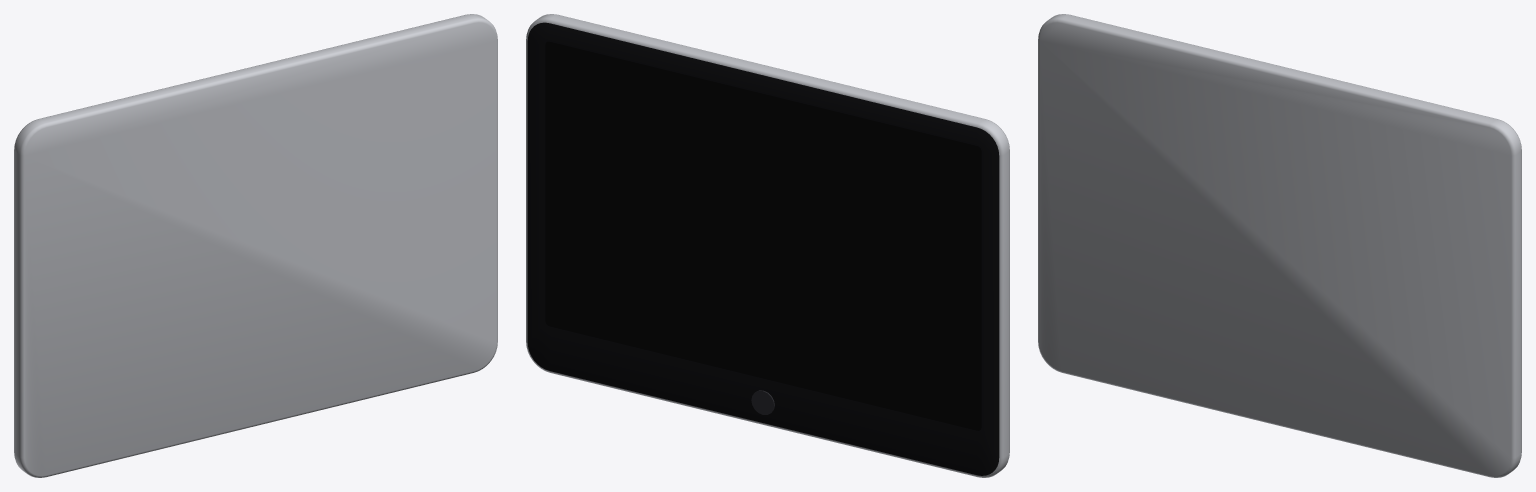
The model's file is KawaTablet.fbx.
The picture shows the model from 3 angles, left to right: view 1: azimuth 30°, elevation 25°; view 2: azimuth 150°, elevation 25°; view 3: azimuth 330°, elevation 25°; orthographic projection.
Visible parts, largest first — view 1: KawaTablet; view 2: KawaTablet; view 3: KawaTablet.
Part boxes in pixels (<box>): KawaTablet: <box>14,14,497,477</box>; KawaTablet: <box>526,14,1009,477</box>; KawaTablet: <box>1038,14,1521,477</box>.
Size of the model in its own units: 0.23 by 0.163 by 0.0081.
Materials: 1 (1 with a texture image).
